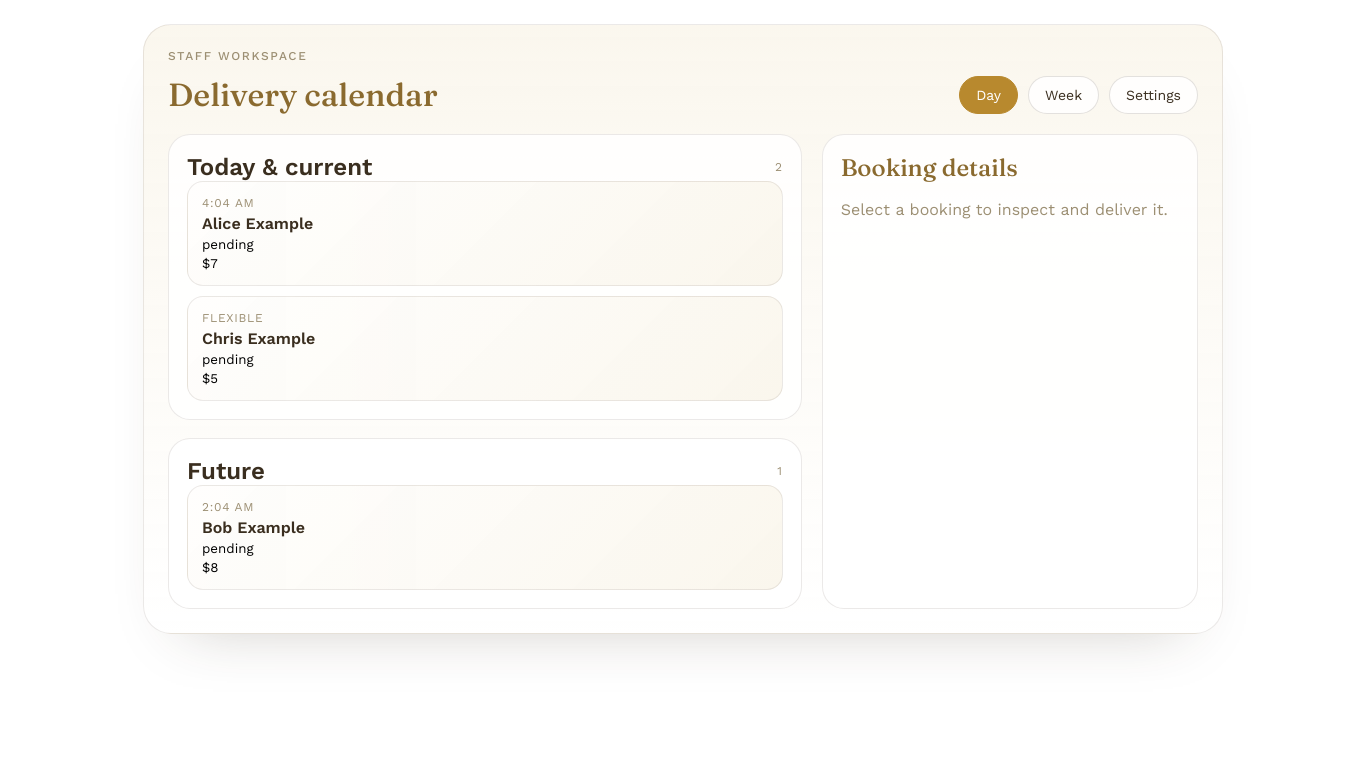
StaffBookings workspace › updates the selected detail pane when a future booking is clicked
Click the button "2:04 AM Bob Example pending $8".
click(228, 507)  # box [187, 485, 783, 590]
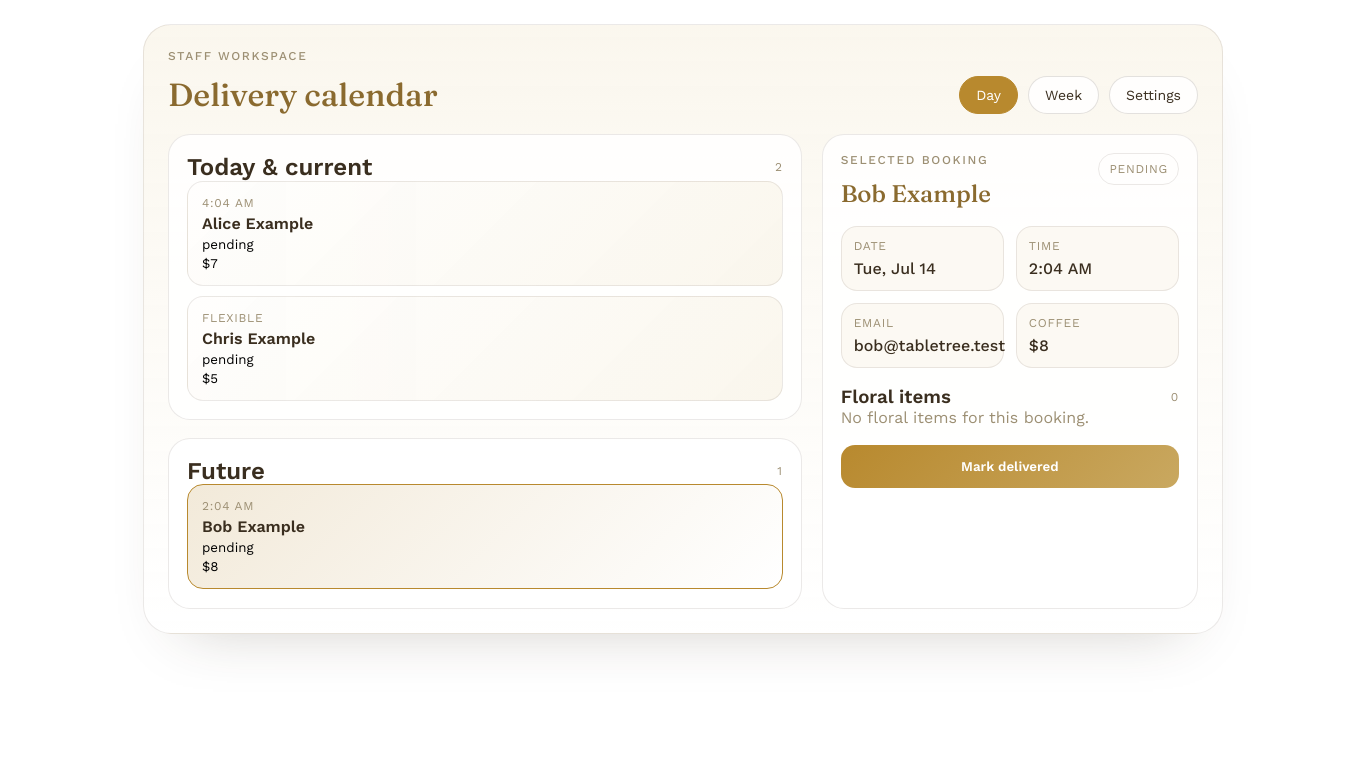
Check: the heading "Bob Example" is shown, box [841, 179, 991, 208]
Check: the text "No floral items for this booking." is shown, box [841, 408, 1089, 427]
